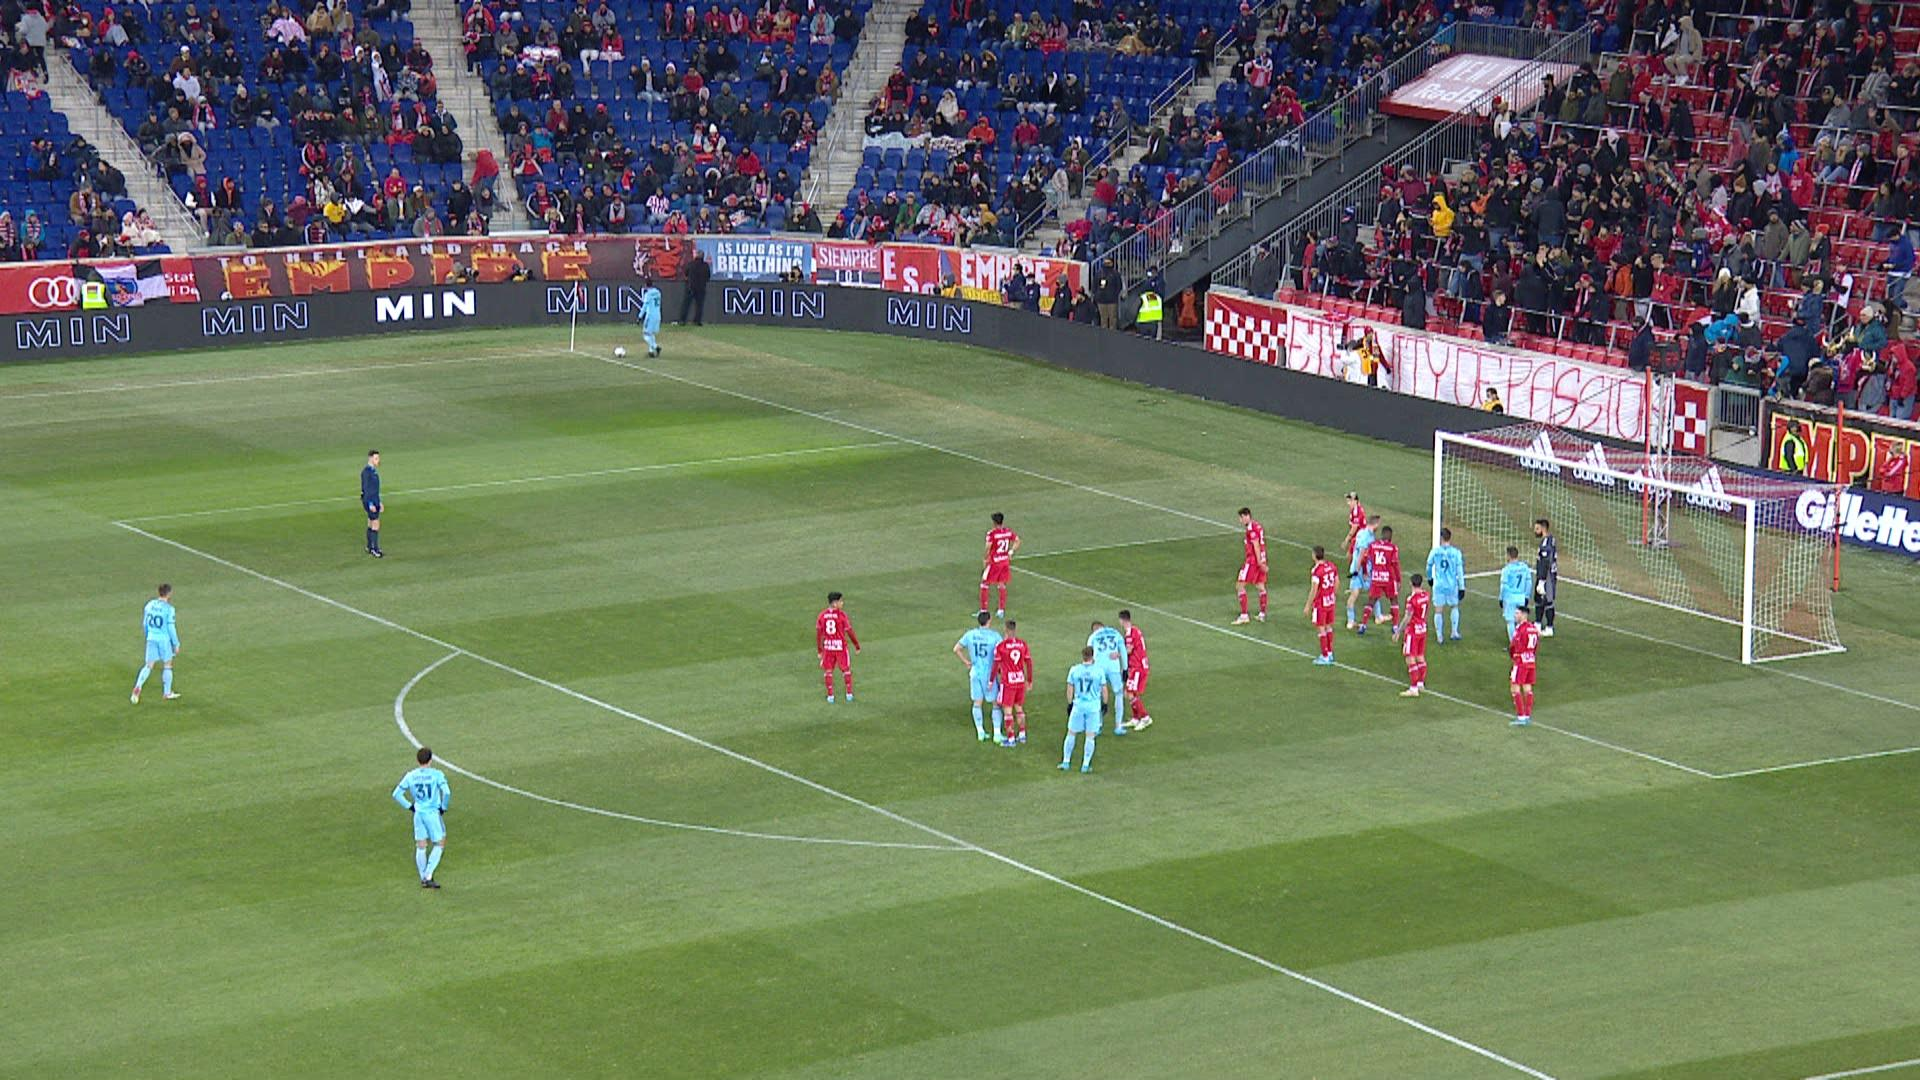football: (613, 345, 626, 359)
